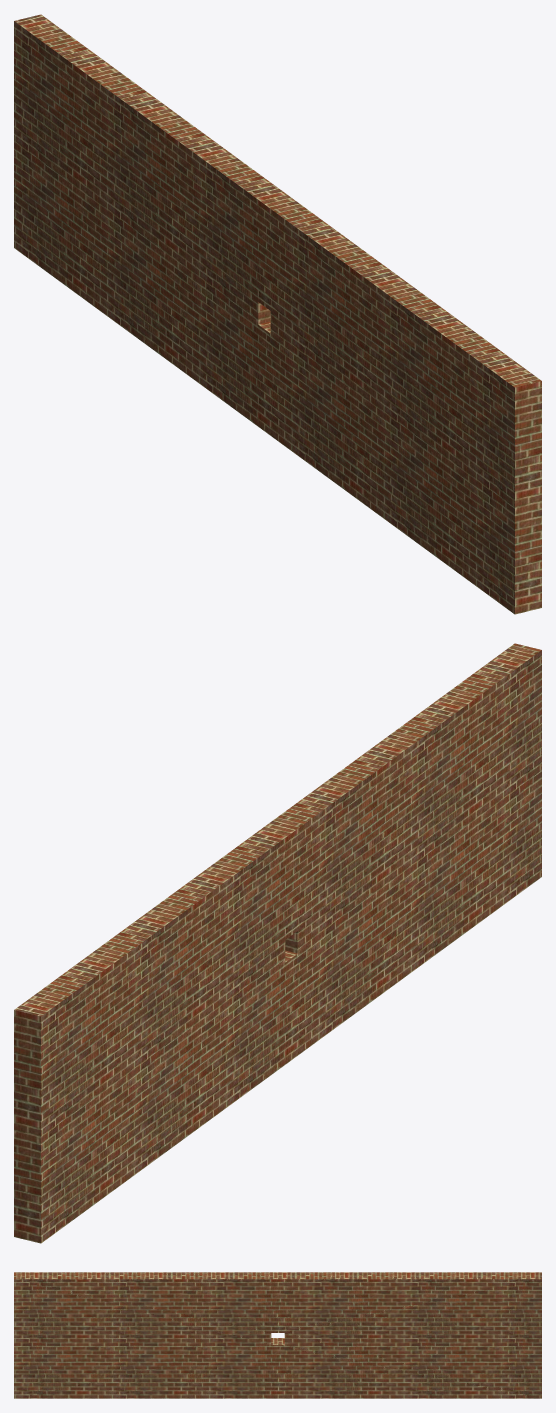
The model's file is brick_wall_hole_2.dae.
3 views of the same model, one above another, from view 1: azimuth 30°, elevation 25°; view 2: azimuth 150°, elevation 25°; view 3: azimuth 270°, elevation 25° (orthographic). The views are drawn at different scales.
Visible parts, largest first — view 1: SketchUp; view 2: SketchUp; view 3: SketchUp.
Part boxes in pixels (x1=…): SketchUp: x1=14, y1=14, x2=541, y2=614; SketchUp: x1=14, y1=643, x2=541, y2=1243; SketchUp: x1=14, y1=1272, x2=541, y2=1398.
Size of the model in its own units: 9.84 by 315 by 78.74.
